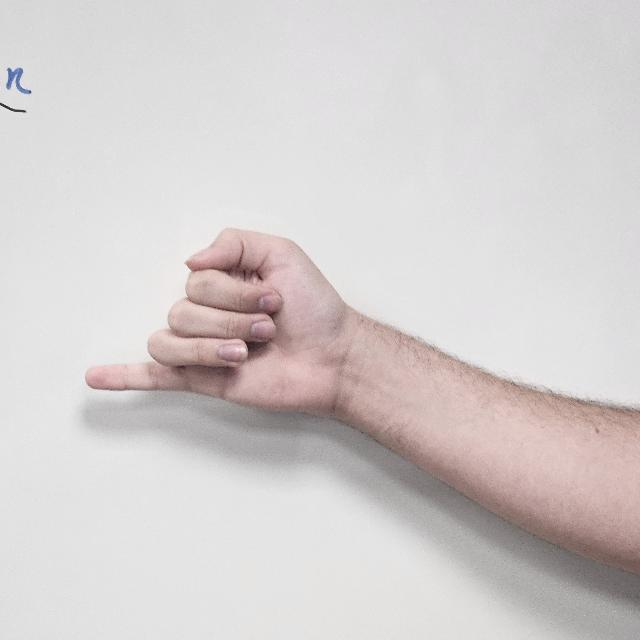Esquerda: (53, 168, 357, 480)
